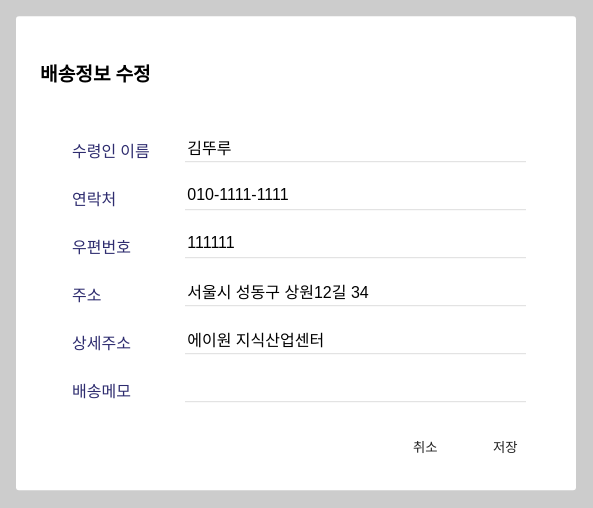
it: EditOrderModal › 배송정보 수정 › 수령인 이름 › 이름을 입력하지 않은 경우 › 주문자 이름을 입력해주세요 에러메시지가 보인다
This screenshot has width=593, height=508.
(page scrolled)
Clear the field labelled "수령인 이름" at (356, 150), box [185,138,526,162]
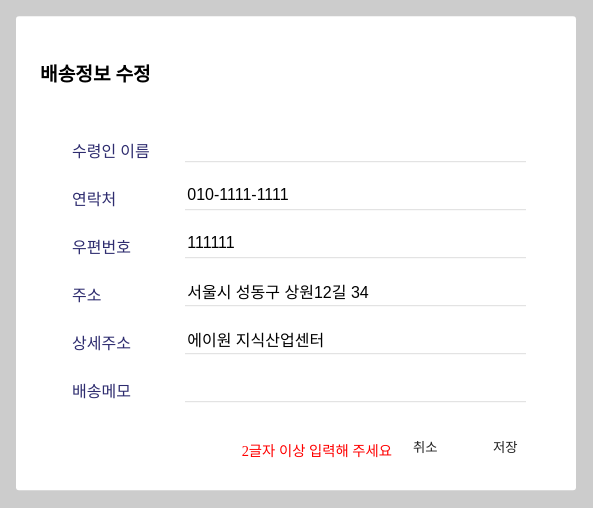
Expected: the text "2글자 이상 입력해 주세요" is shown, [242,443,392,459]
